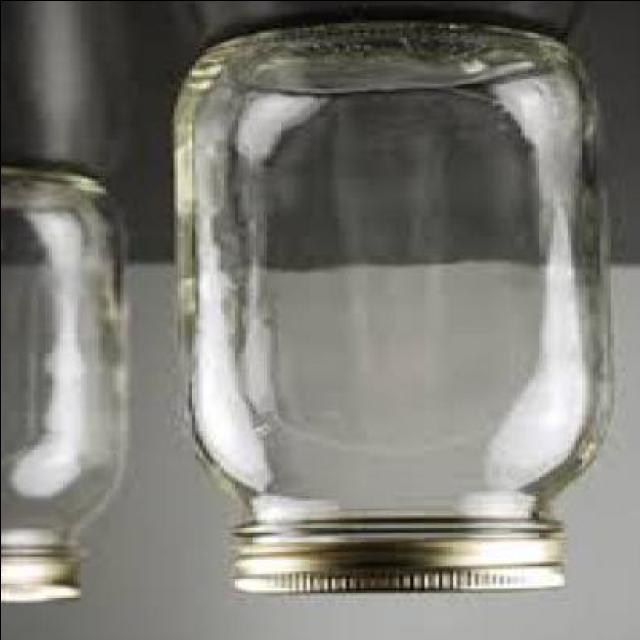kaca: (177, 19, 621, 537), (0, 165, 134, 560)
